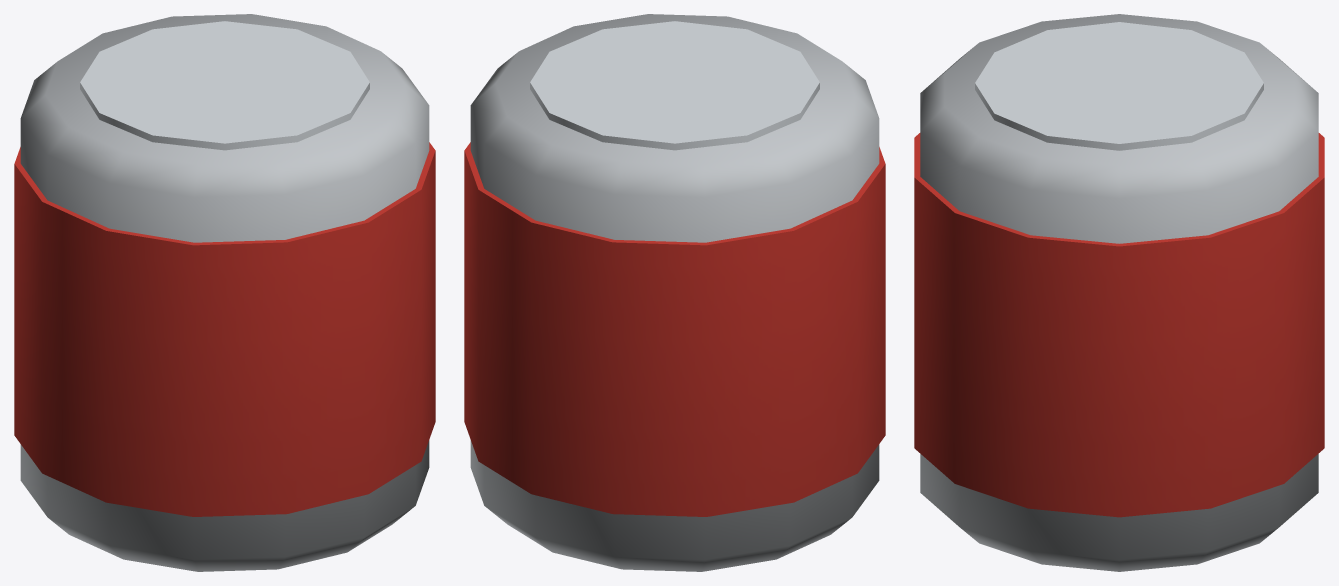
The model's file is SM_Can_No10_01.glb.
3 views of the same model, side by side, from view 1: azimuth 30°, elevation 25°; view 2: azimuth 150°, elevation 25°; view 3: azimuth 270°, elevation 25° (orthographic).
Parts seen in each view (by area): view 1: SM_Can_No10_01; view 2: SM_Can_No10_01; view 3: SM_Can_No10_01.
Boxes of the visible parts, <box> form: SM_Can_No10_01: <box>14,14,435,571</box>; SM_Can_No10_01: <box>464,14,885,571</box>; SM_Can_No10_01: <box>914,14,1324,571</box>.
Bounding box in the file's own units: 0.169 × 0.183 × 0.1648.
1 material, 1 textured.
